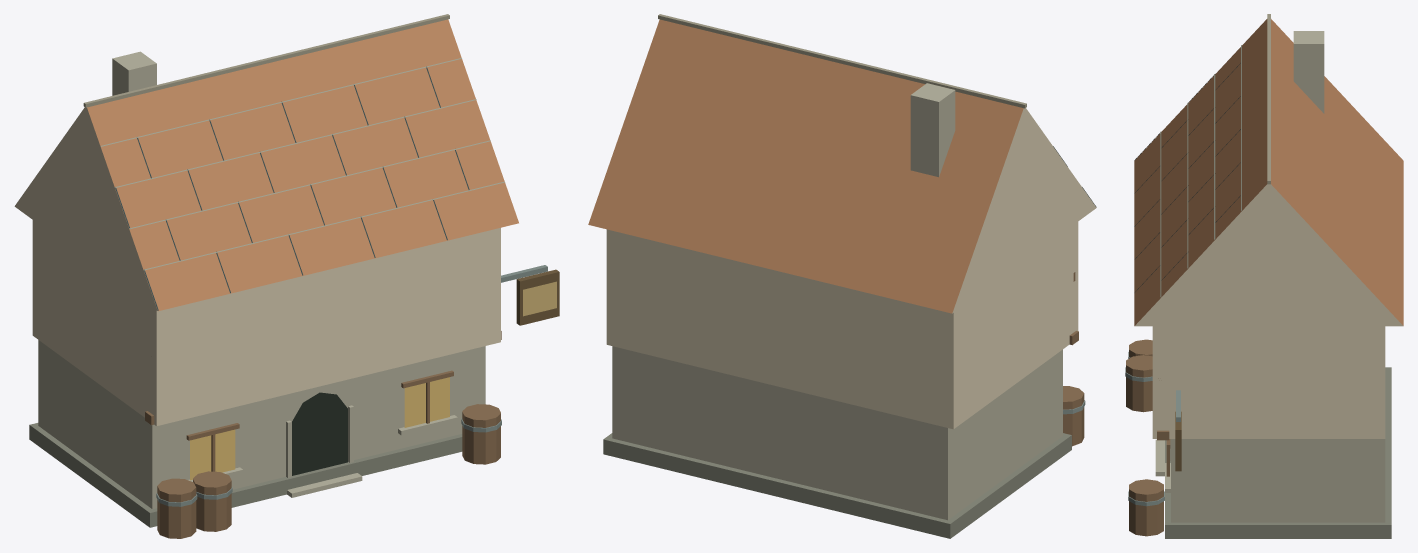
File: capital-tavern.glb
3 views of the same model, side by side, from view 1: azimuth 30°, elevation 25°; view 2: azimuth 150°, elevation 25°; view 3: azimuth 270°, elevation 25° (orthographic). The views are drawn at different scales.
Visible parts, largest first — view 1: Building; view 2: Building; view 3: Building.
Boxes of the visible parts, x1,y1,x2,y2 form: Building: (14, 14, 559, 538); Building: (588, 14, 1096, 538); Building: (1125, 14, 1403, 538).
Bounding box in the file's own units: 150 × 134 × 90.99.
